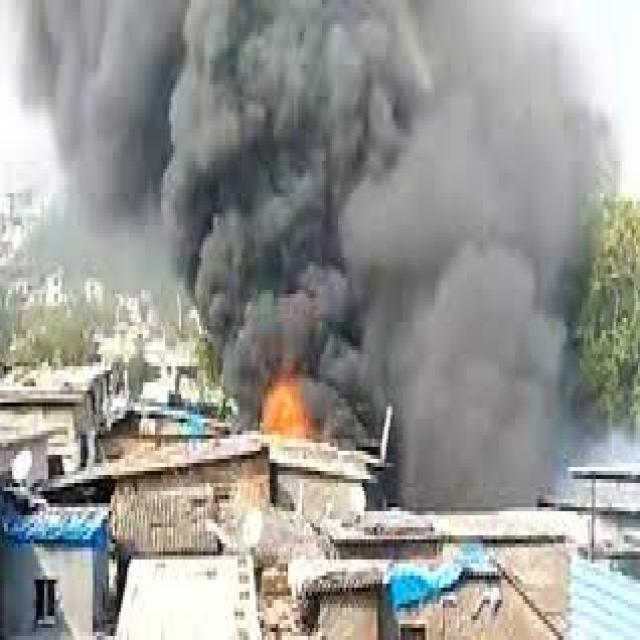Fire: (264, 376, 310, 436)
Smoke: (310, 0, 583, 427), (19, 0, 186, 335), (186, 0, 310, 377), (400, 431, 575, 511)
